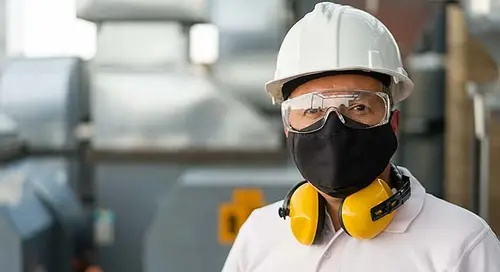safety_goggles: (243, 87, 424, 133)
